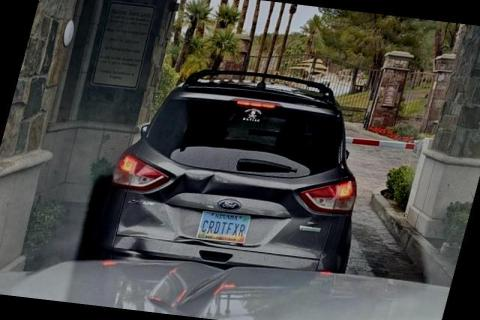LicensePlate: (193, 208, 250, 242)
